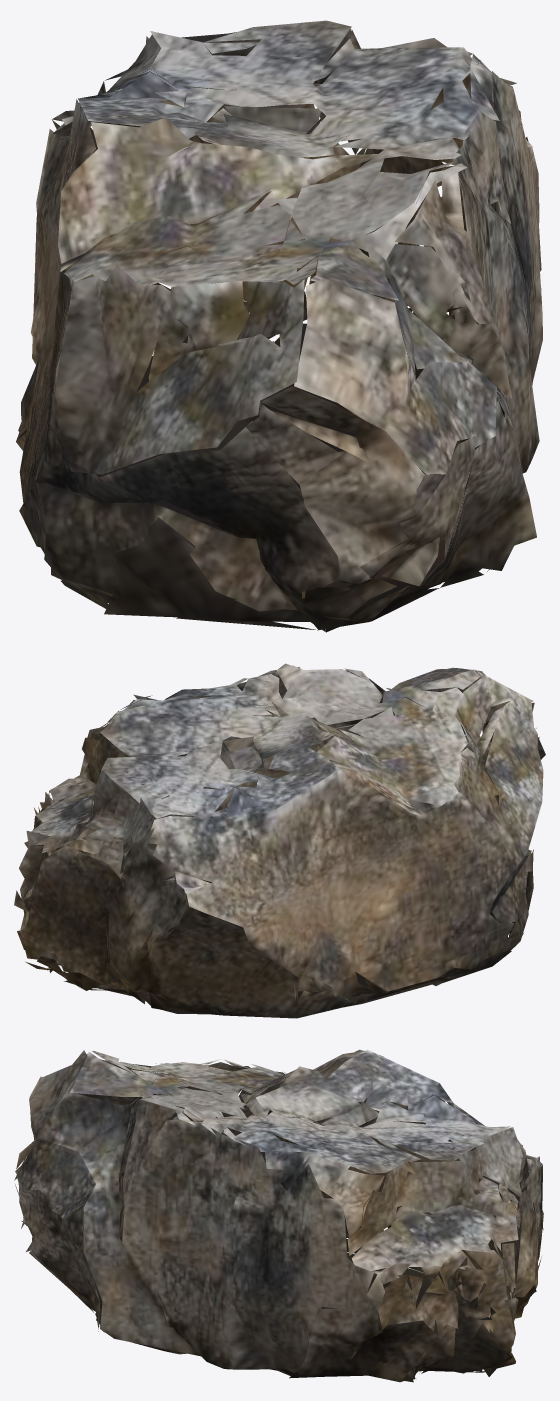
Rendered from kueste_felsen.glb.
3 renders of one model, top to bottom at view 1: azimuth 30°, elevation 25°; view 2: azimuth 150°, elevation 25°; view 3: azimuth 270°, elevation 25°, orthographic. The views are drawn at different scales.
Parts seen in each view (by area): view 1: Prop; view 2: Prop; view 3: Prop.
Boxes of the visible parts, x1,y1,x2,y2 form: Prop: (16,20,542,632); Prop: (14,663,545,1018); Prop: (14,1049,543,1382).
Bounding box in the file's own units: 1.79 × 1.01 × 2.1.
Materials: 1 (1 with a texture image).
